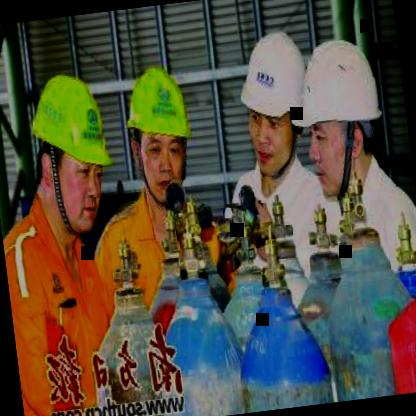helmet: (14, 56, 125, 244), (290, 29, 398, 202), (228, 20, 316, 180), (116, 52, 202, 203)
